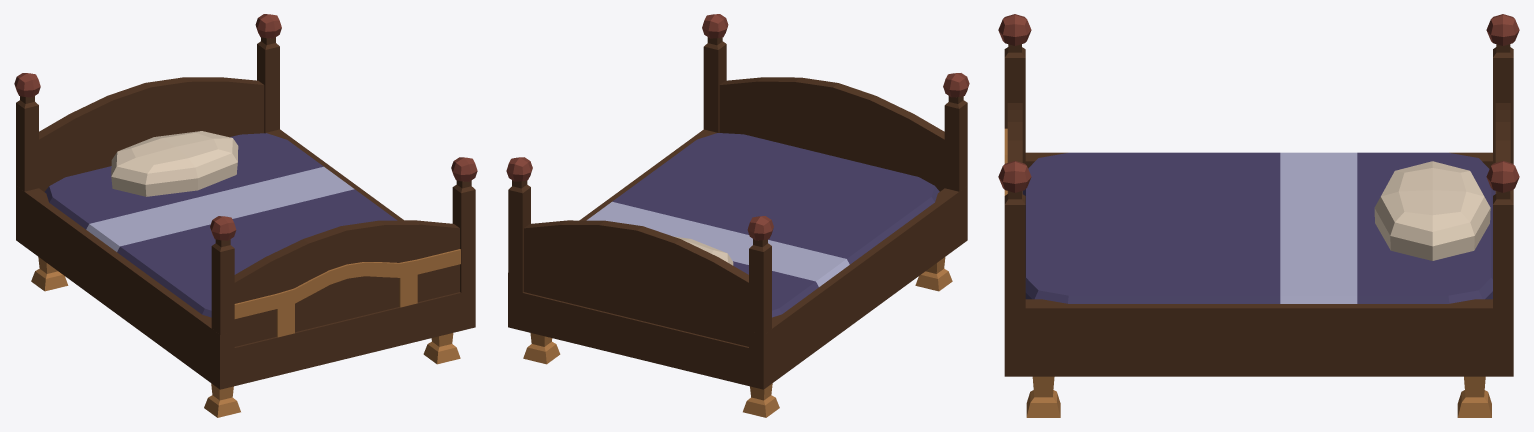
Rendered from single_bed.glb.
3 views of the same model, side by side, from view 1: azimuth 30°, elevation 25°; view 2: azimuth 150°, elevation 25°; view 3: azimuth 270°, elevation 25° (orthographic). The views are drawn at different scales.
Parts seen in each view (by area): view 1: Single_Bed, Pillow1; view 2: Single_Bed; view 3: Single_Bed, Pillow1.
Part boxes in pixels (x1=…): Single_Bed: x1=14, y1=14, x2=477, y2=417; Pillow1: x1=111, y1=131, x2=238, y2=196; Single_Bed: x1=506, y1=14, x2=969, y2=417; Single_Bed: x1=998, y1=14, x2=1519, y2=417; Pillow1: x1=1374, y1=161, x2=1490, y2=260.
Bounding box in the file's own units: 1.95 × 1.44 × 2.67.
1 material, 1 textured.
